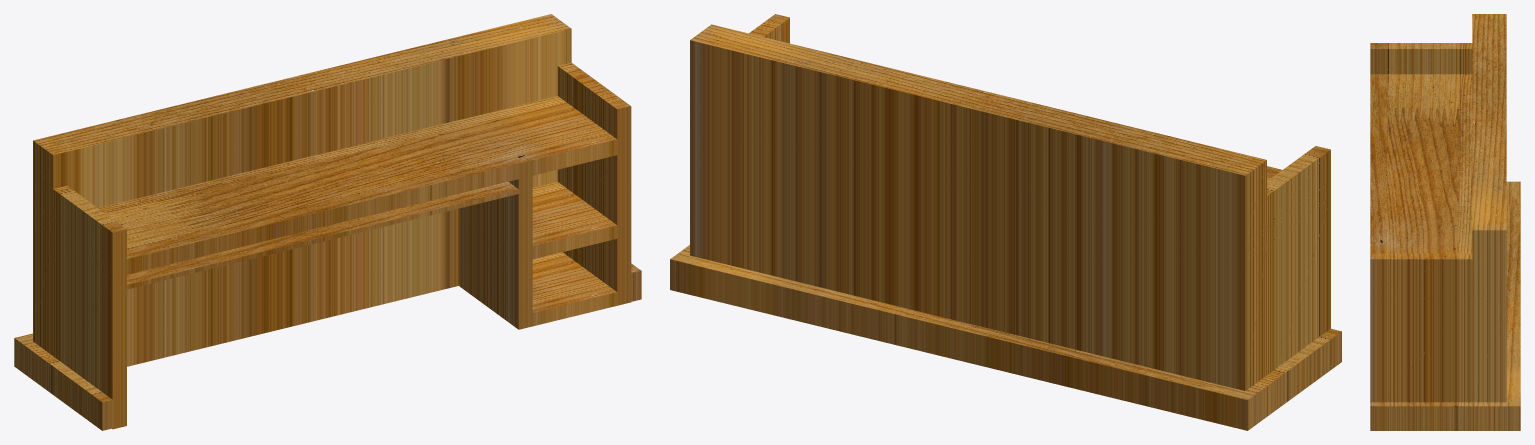
The model's file is desk 1.FBX.
The picture shows the model from 3 angles, left to right: view 1: azimuth 30°, elevation 25°; view 2: azimuth 150°, elevation 25°; view 3: azimuth 270°, elevation 25°; orthographic projection. The views are drawn at different scales.
Visible parts, largest first — view 1: Mesh001; view 2: Mesh001; view 3: Mesh001.
Boxes of the visible parts, <box> form: Mesh001: <box>14,14,641,430</box>; Mesh001: <box>670,14,1341,430</box>; Mesh001: <box>1370,14,1520,430</box>.
Size of the model in its own units: 80.42 by 32.87 by 22.71.
1 material, 1 textured.
